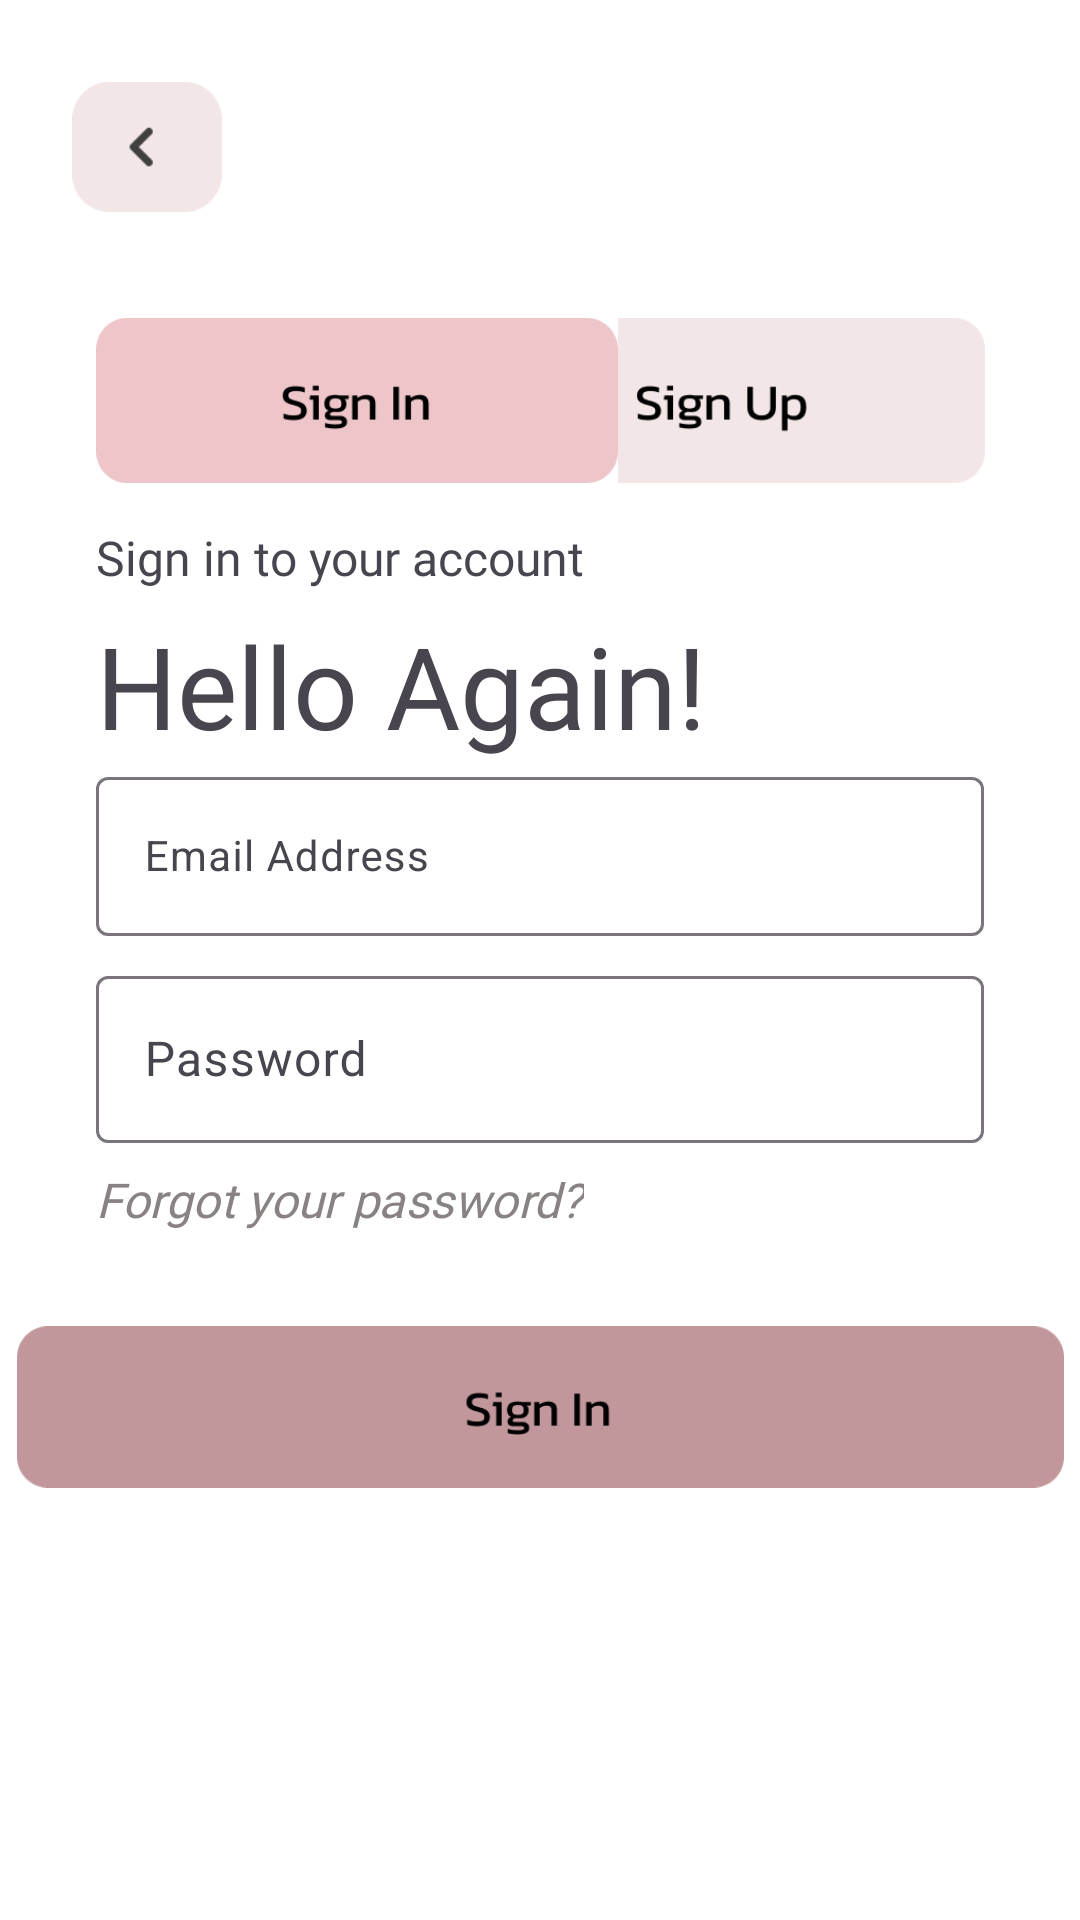

Icons on this 1080x1920 Android screen, each with the point to tap as (x,y):
arrow nh: (147,147)
